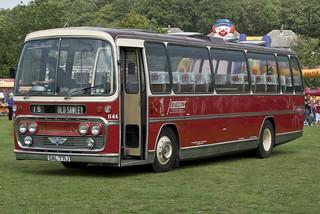bus: (13, 30, 308, 164)
